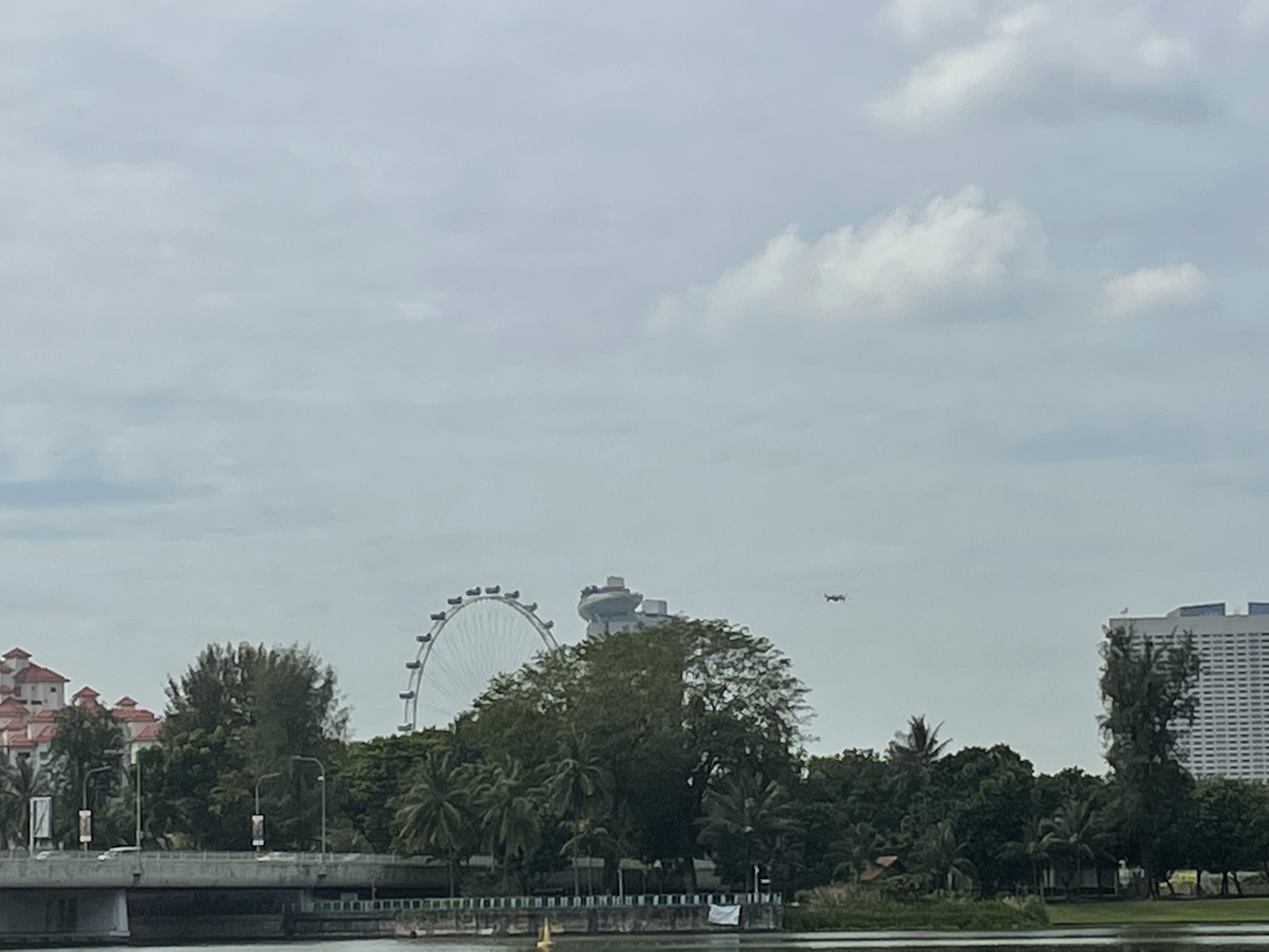drone_other: (824, 591, 850, 605)
